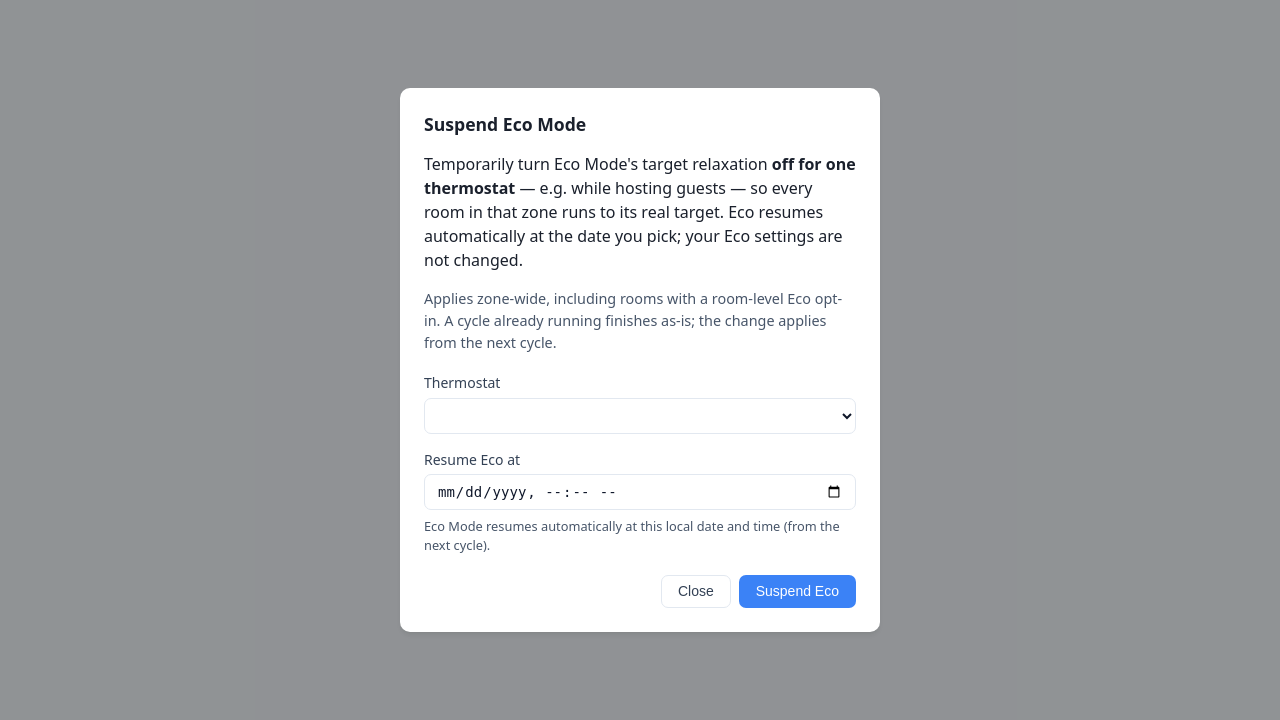
Scenario: EcoSuspendModal (Issue #500) › requires a thermostat selection when none are available
The width and height of the screenshot is (1280, 720).
What coordinates should you click on to do the following:
click the button "Suspend Eco"
I would click on:
 (797, 591)
Its box is [739,575,856,608].
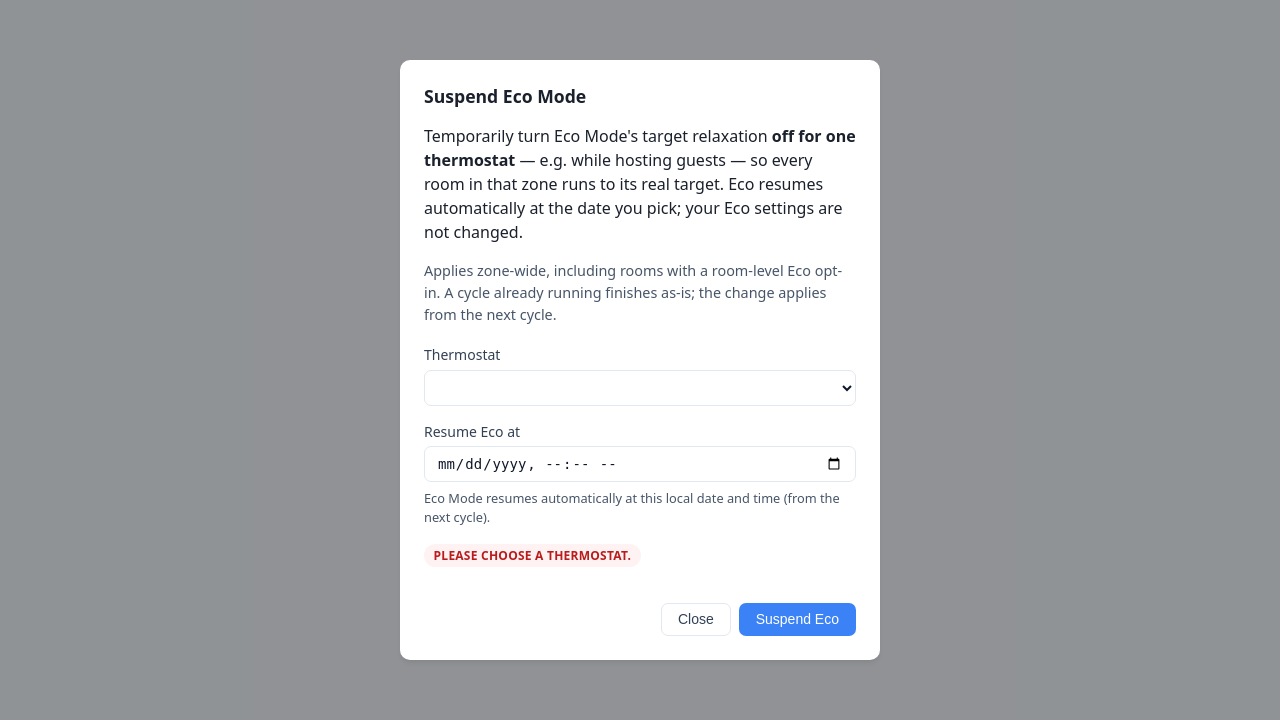
Result: the text "Please choose a thermostat." is shown at [424,544,641,567]
